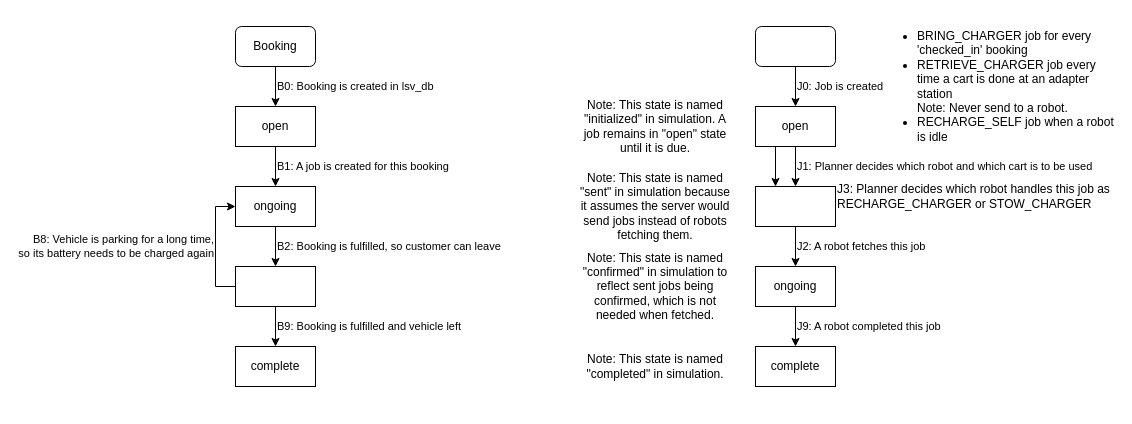
This 1132x424 diagram has some shape labels left out. The shapes that lost their labels are listed below. From the top down, each one's centre as x and y in pixels, then its label:
At point (795, 46): "Job".
At point (795, 206): "pending".
At point (275, 286): "ready".
